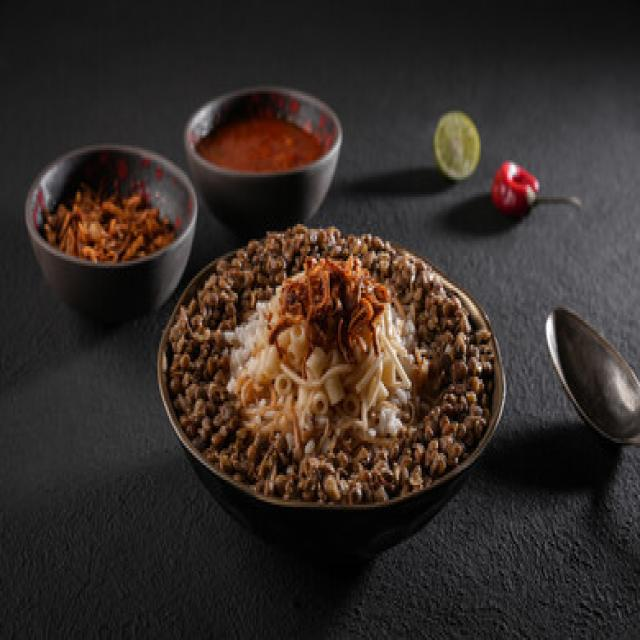felfel: (489, 170, 552, 210)
koshary: (164, 231, 491, 499)
lemon: (427, 110, 487, 181)
pasal: (49, 185, 174, 262)
salsa: (203, 116, 328, 172)
